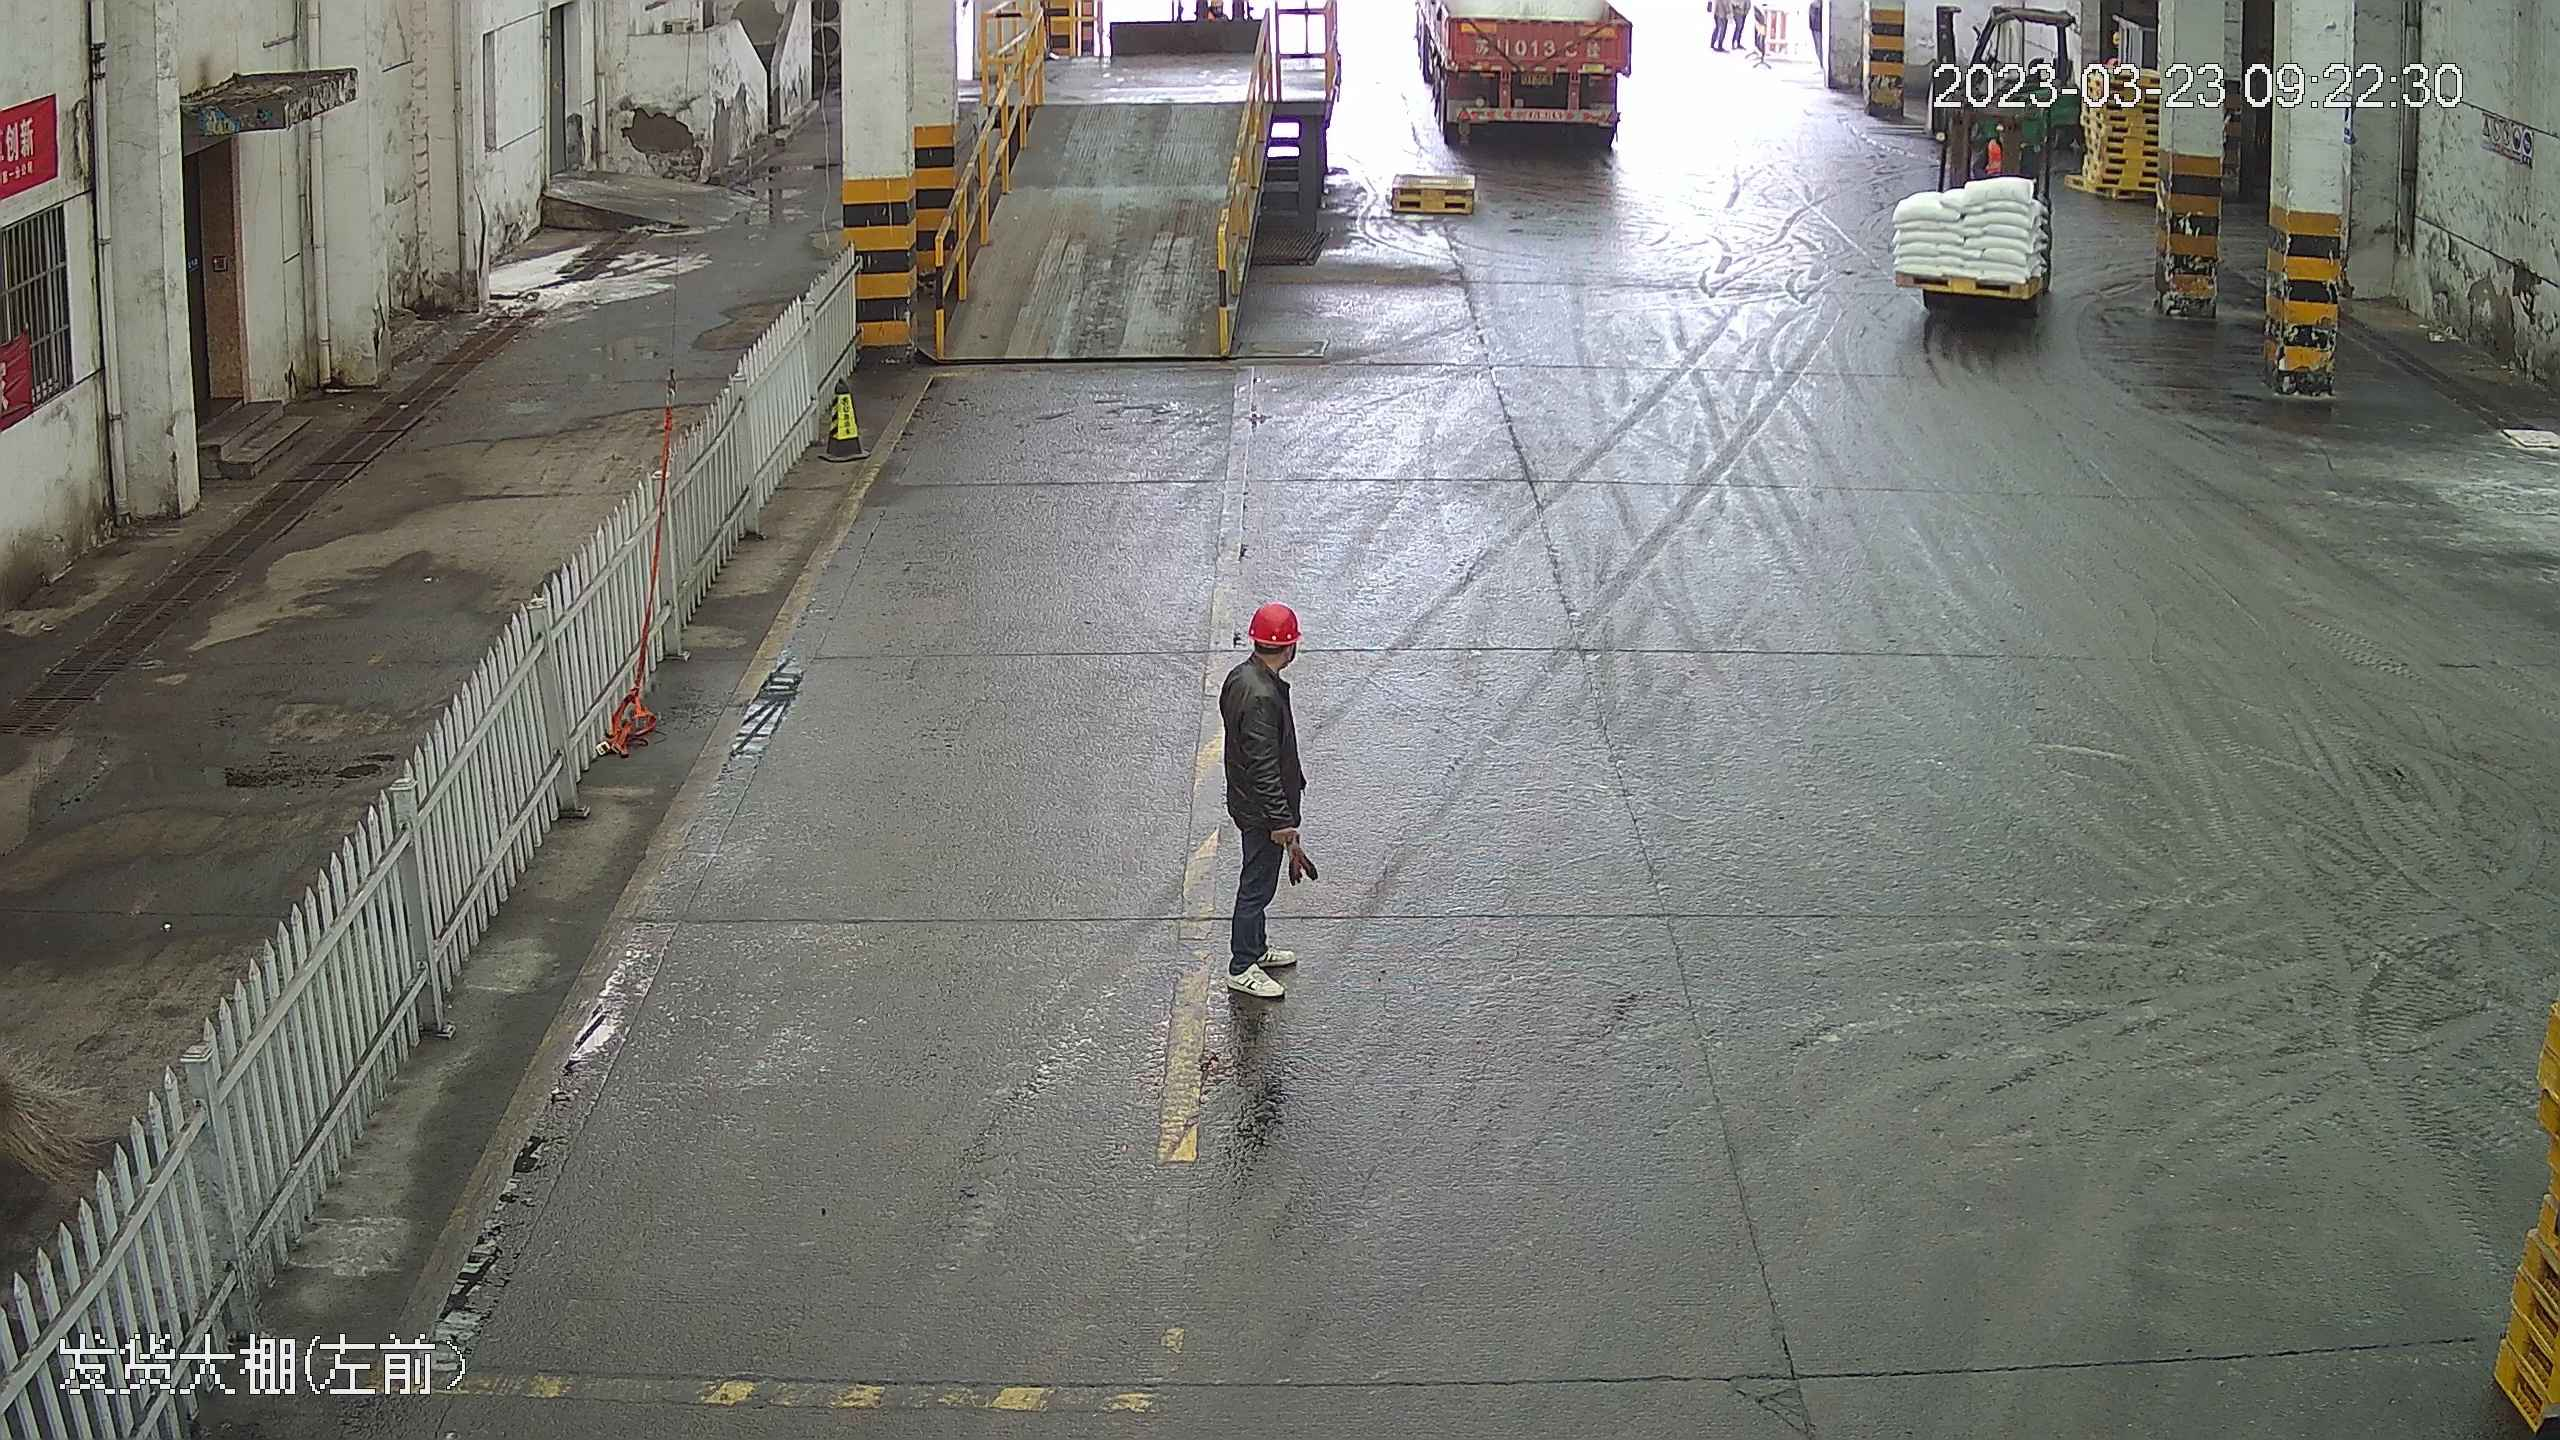head: (1218, 597, 1304, 709)
helmet: (1246, 597, 1303, 643)
people: (1212, 596, 1321, 997)
truck: (1416, 3, 1642, 143)
